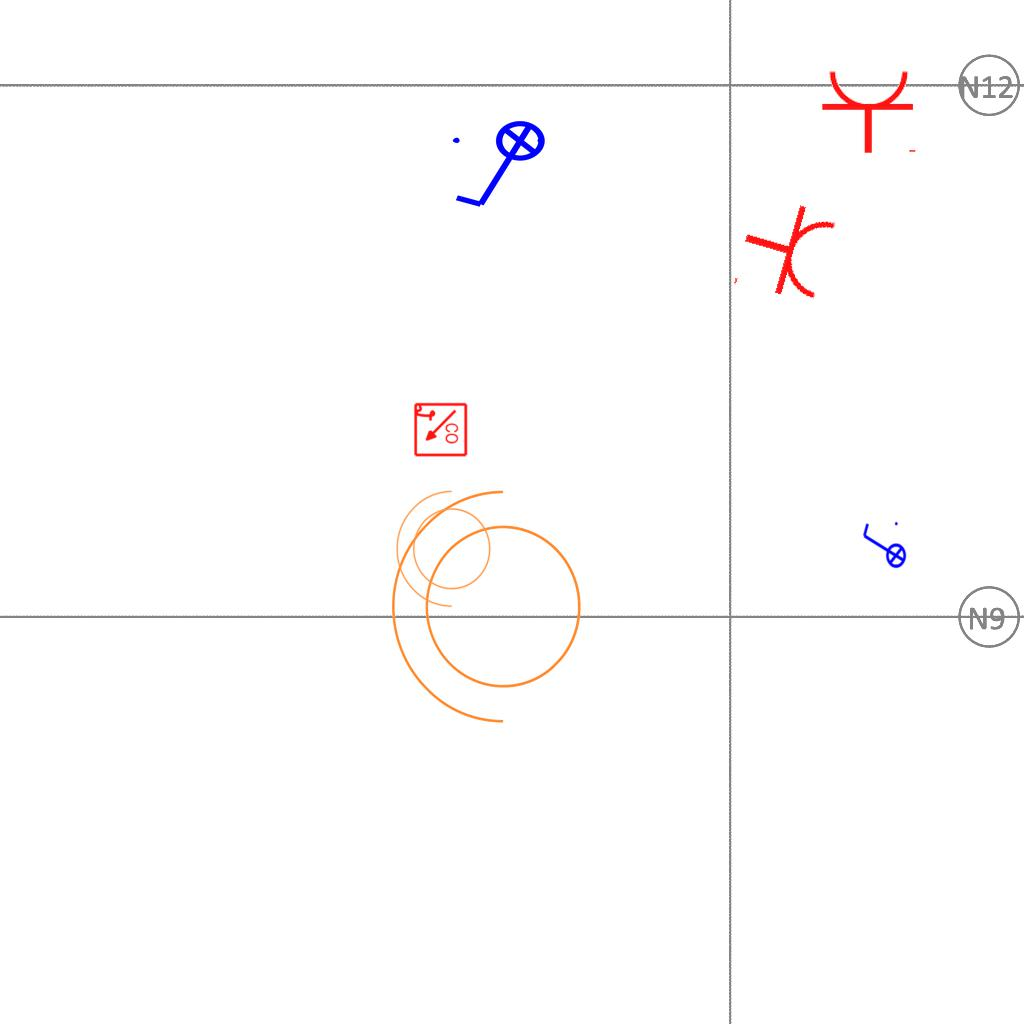Ausschalter_beleuchtet: (447, 119, 559, 215), (859, 519, 907, 575)
ROA_Rauchmelder_optisch_mit_Signalgeber_(Sockelsirene): (412, 402, 468, 458)
Scheinwerfer_fuer_Alarmbeleuchtung: (381, 481, 606, 745), (391, 486, 503, 618)
Schukosteckdose_einfach: (729, 190, 842, 312), (820, 68, 920, 155)
